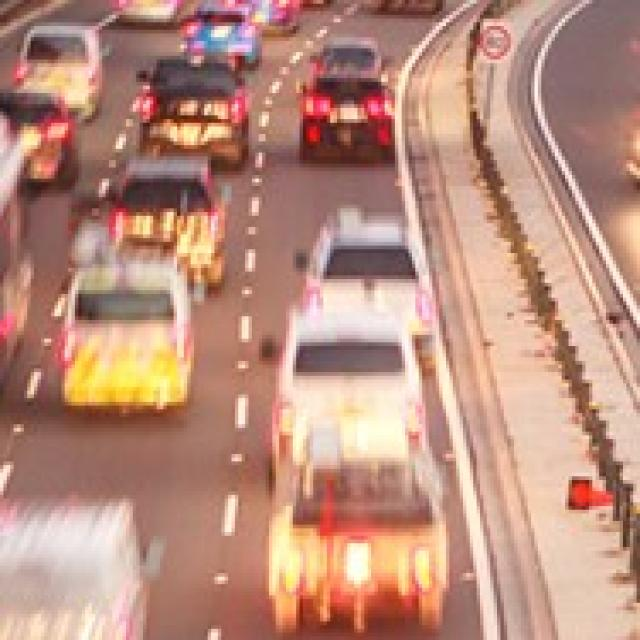bus: (0, 104, 34, 406)
car: (261, 420, 451, 636), (261, 331, 441, 465), (0, 498, 150, 640), (60, 258, 193, 415), (290, 212, 434, 348), (99, 147, 230, 292), (137, 48, 250, 177), (288, 49, 400, 170), (14, 19, 102, 119)
